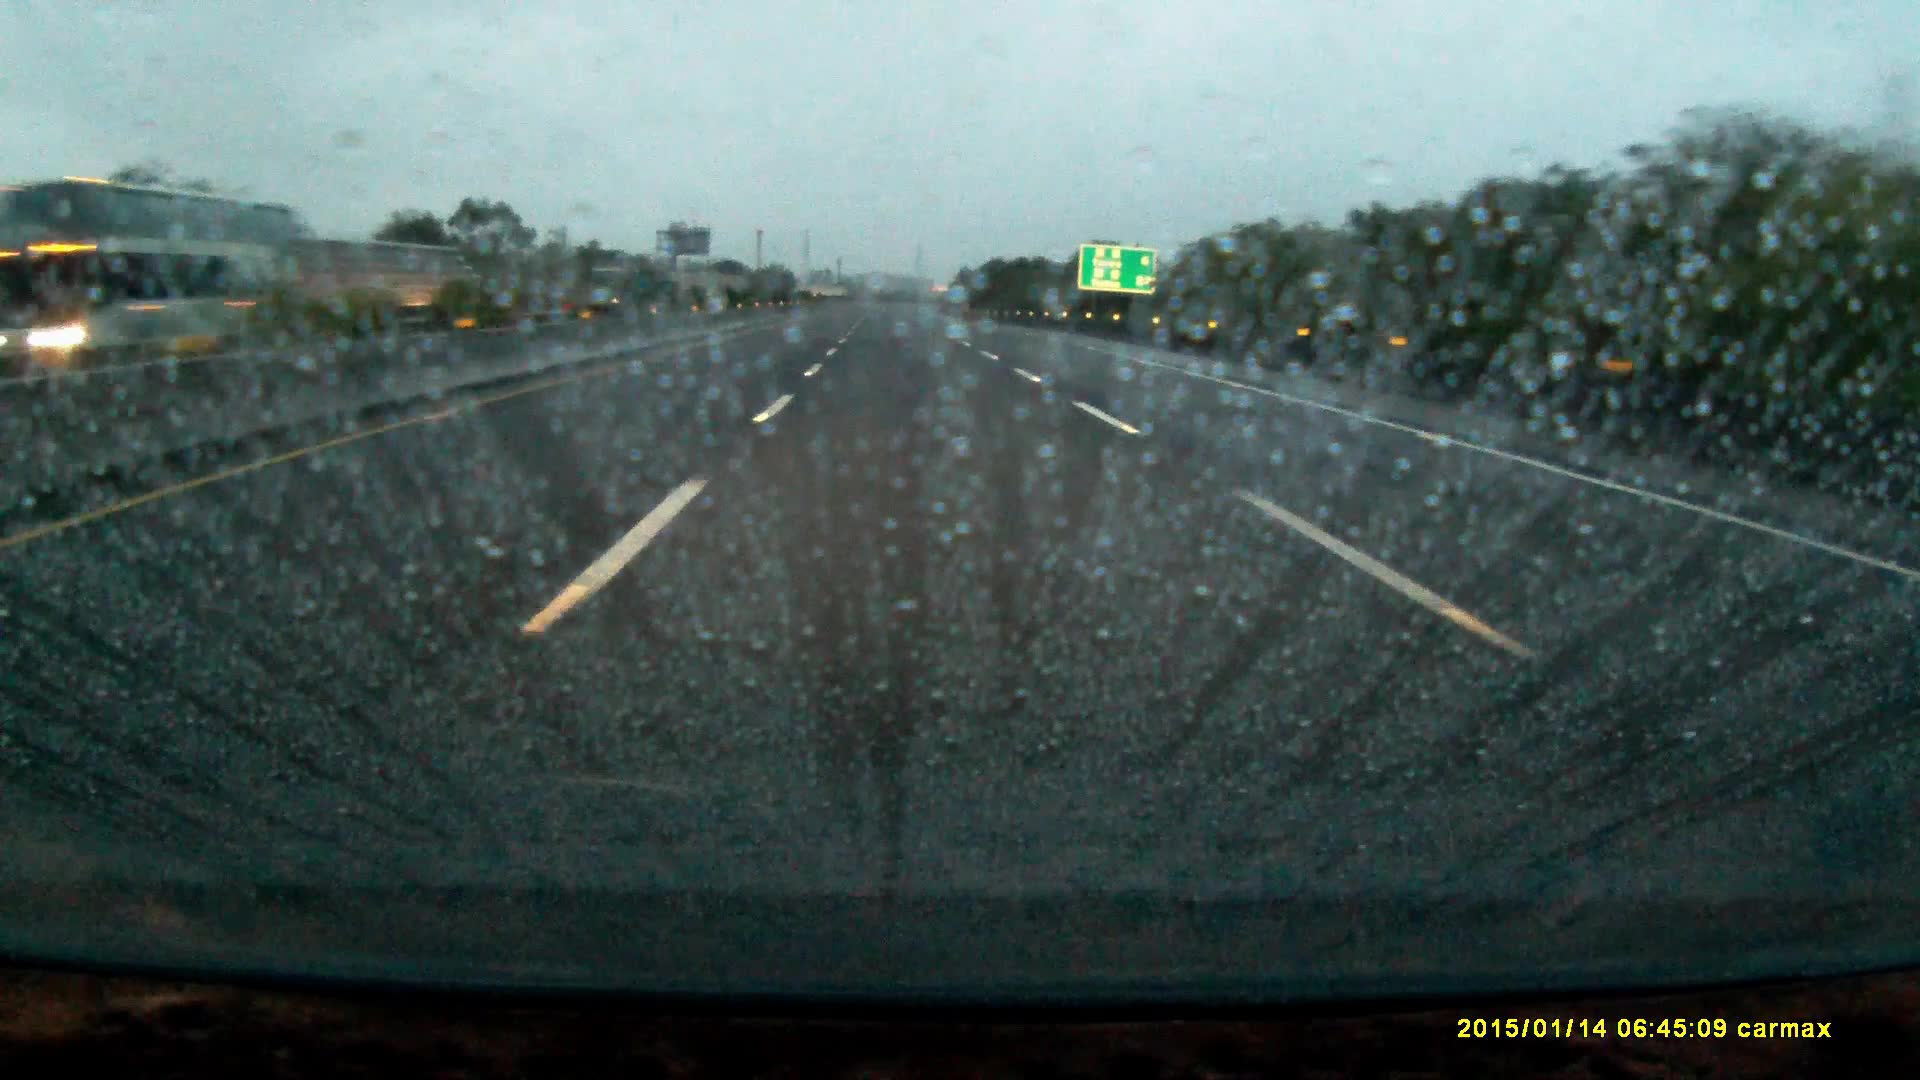vehicle: (5, 175, 272, 352), (585, 265, 658, 307)
